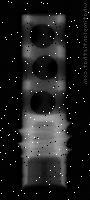Zimmer: (17, 12, 71, 188)
